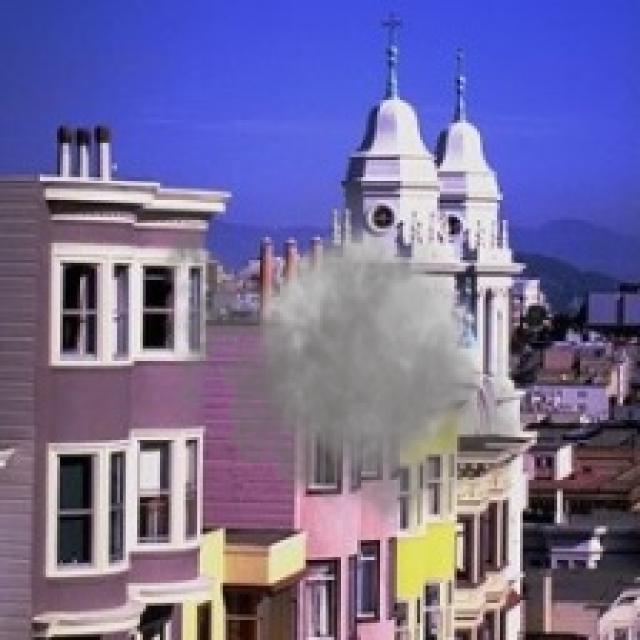Smoke: (152, 160, 537, 546)
